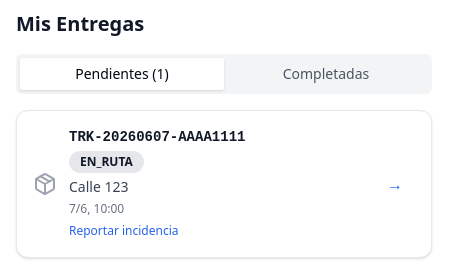
Test: R26 — VistaRepartidor: pestañas Pendientes/Completadas con entregas agrupadas › debe mostrar las entregas completadas al cambiar de pestaña
Click the tab "Completadas" at (326, 74), box [224,58,428,90]
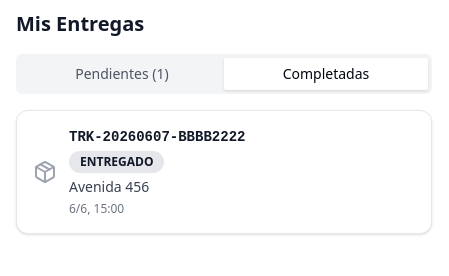
Check: the text "TRK-20260607-BBBB2222" is shown, box [69,129,245,145]
Check: the text "Avenida 456" is shown, box [69,177,149,196]
